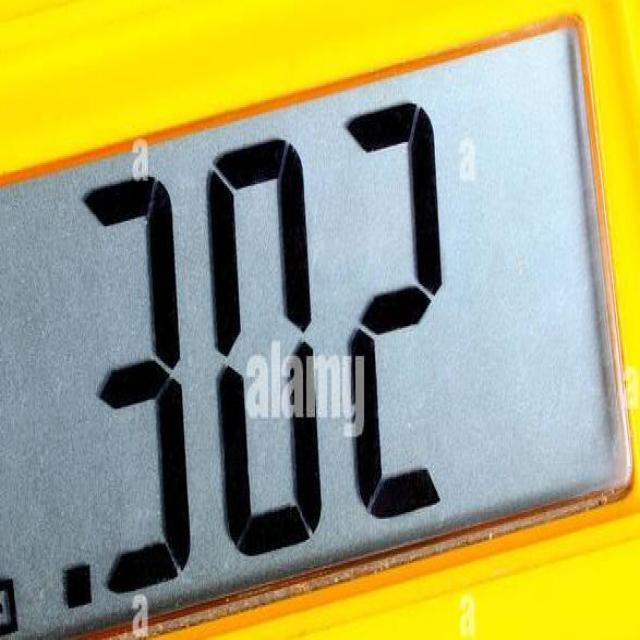.: (58, 563, 98, 616)
0: (206, 140, 324, 556)
2: (340, 100, 447, 526)
3: (82, 175, 198, 598)
